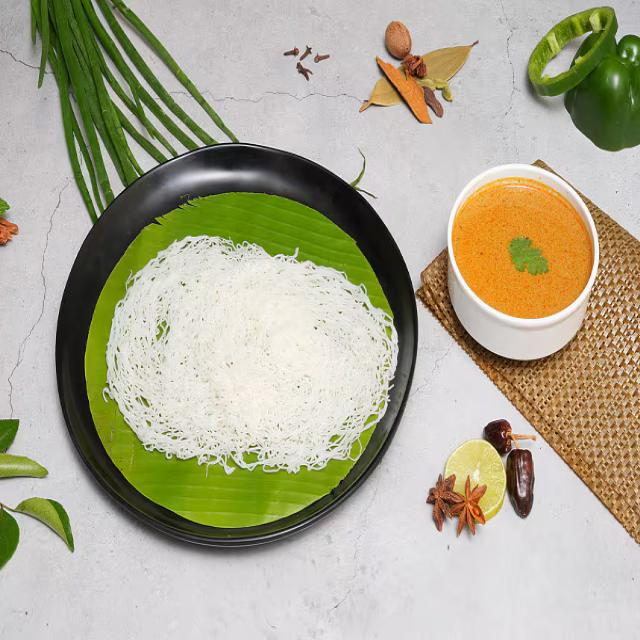IDIYAPPAM: (103, 240, 396, 465)
KURMA: (454, 186, 592, 316)
